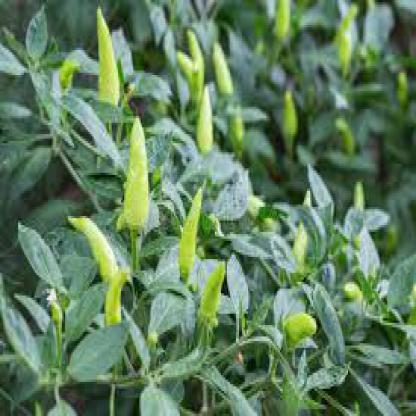Green Chilli: (122, 113, 153, 230), (65, 214, 117, 282), (172, 187, 208, 284), (91, 9, 119, 102), (102, 268, 134, 325), (212, 41, 237, 100), (283, 311, 321, 348), (186, 25, 204, 95), (195, 87, 213, 154), (176, 47, 192, 98)
